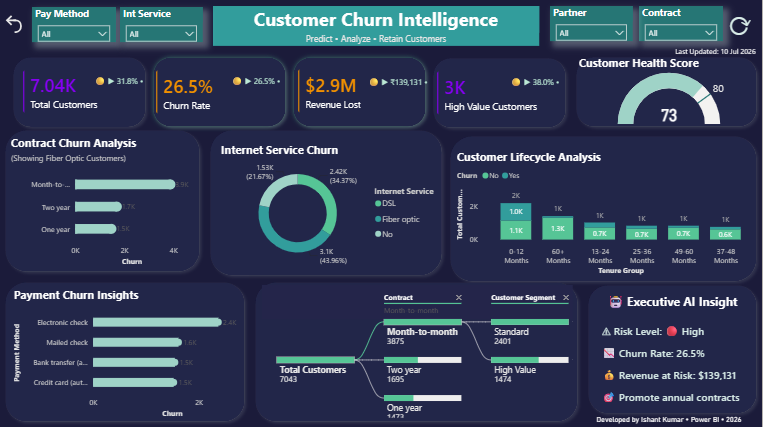

The dashboard page shown, as its layout file describes it:
{"tool":"powerbi","page":{"name":"Page 1","canvas":[1280,720],"ordinal":0},"visuals":[{"type":"shape","box":[248.6,89,240.2,134.4],"z":0},{"type":"shape","box":[483.8,89,240.2,134.4],"z":1000},{"type":"shape","box":[13.1,88.6,240,135],"z":2000},{"type":"shape","box":[0,211.7,344.4,255.3],"z":3000},{"type":"shape","box":[719,90.7,240.2,134.4],"z":4000},{"type":"cardVisual","fields":{"Data":["all measures.Total Customers"]},"box":[22,102.8,216.1,106.4],"z":5000},{"type":"cardVisual","fields":{"Data":["all measures.Churn Rate"]},"box":[245.2,102.5,220.1,107.5],"z":6000},{"type":"cardVisual","fields":{"Data":["all measures.Revenue Lost"]},"box":[483.8,100.8,233.5,107.5],"z":7000},{"type":"cardVisual","fields":{"Data":["all measures.High Value Customers"]},"box":[717.3,104.1,226.8,107.5],"z":8000},{"type":"shape","box":[367.9,102.5,124.3,70.6],"z":9000},{"type":"shape","box":[618.2,104.1,100.8,70.6],"z":10000},{"type":"shape","box":[137.7,102.5,124.3,70.6],"z":11000},{"type":"shape","box":[836.5,104.1,124.3,70.6],"z":12000},{"type":"clusteredBarChart","title":"Contract Churn Analysis","fields":{"Category":["Telco-Customer-Churn.Contract"],"Y":["CountNonNull(Telco-Customer-Churn.Churn)"]},"box":[13.4,228.5,315.8,225.1],"z":13000},{"type":"shape","box":[344.5,211.1,407,261.7],"z":14000},{"type":"donutChart","title":"Internet Service Churn","fields":{"Y":["CountNonNull(Telco-Customer-Churn.Churn)"],"Series":["Telco-Customer-Churn.Internet Service"]},"box":[366.4,239.8,381.6,214.5],"z":15000},{"type":"shape","box":[0,467,419.9,252],"z":16000},{"type":"clusteredBarChart","title":"Payment Churn Insights","fields":{"Y":["CountNonNull(Telco-Customer-Churn.Churn)"],"Category":["Telco-Customer-Churn.Payment Method"]},"box":[18.5,483.8,416.6,225.1],"z":17000},{"type":"shape","box":[748.1,221.2,531.9,261.7],"z":18000},{"type":"columnChart","title":"Customer Lifecycle Analysis","fields":{"Category":["Telco-Customer-Churn.Tenure Group"],"Y":["all measures.Total Customers"],"Series":["Telco-Customer-Churn.Churn"]},"box":[763.3,251.6,516.7,216.1],"z":19000},{"type":"shape","box":[419.9,467,559.4,252],"z":20000},{"type":"decompositionTreeVisual","fields":{"ExplainBy":["Telco-Customer-Churn.Contract","Telco-Customer-Churn.Customer Segment","Telco-Customer-Churn.Internet Service","Telco-Customer-Churn.Payment Method","Telco-Customer-Churn.Senior Citizen","Telco-Customer-Churn.Tenure Group","Telco-Customer-Churn.Partner","Telco-Customer-Churn.Dependents"],"Analyze":["all measures.Total Customers"]},"box":[435.1,475.4,532.5,233.5],"z":21000},{"type":"textbox","box":[967.6,692.3,312.4,27],"z":22000},{"type":"shape","title":"Customer Churn Intelligence","box":[357.8,11.8,547.6,77.3],"z":23000},{"type":"slicer","title":"Pay Method","fields":{"Values":["Telco-Customer-Churn.Payment Method"]},"box":[53.8,13.4,141.1,58.8],"z":24000},{"type":"slicer","title":"Contract","fields":{"Values":["Telco-Customer-Churn.Contract"]},"box":[1073.4,11.8,141.1,58.8],"z":25000},{"type":"slicer","title":"Int Service","fields":{"Values":["Telco-Customer-Churn.Internet Service"]},"box":[201.6,13.4,139.4,58.8],"z":26000},{"type":"slicer","title":"Partner","fields":{"Values":["Telco-Customer-Churn.Partner"]},"box":[923.9,11.8,139.4,58.8],"z":27000},{"type":"actionButton","box":[1205.7,11.8,74.3,64.2],"z":28000},{"type":"shape","box":[1123.8,73.9,156.2,28.6],"z":29000},{"type":"shape","box":[979.4,472.8,300.6,233],"z":30000},{"type":"cardVisual","fields":{"Data":["all measures.AI Risk Level","all measures.AI Churn Rate","all measures.AI Revenue","all measures.AI Recommendation"]},"box":[979.4,493.1,300.6,212.8],"z":31000},{"type":"shape","box":[959.2,89,320.8,134.4],"z":32000},{"type":"gauge","fields":{"Y":["all measures.Customer Health Score"]},"box":[967.6,94.1,312.4,120.9],"z":33000},{"type":"actionButton","box":[3.4,21.8,100.8,40.3],"z":33001}]}

Visuals, with their boxes in screenshot pixels (x1, y1, x2, y2), scaled from the page's 1280x720 canvas onto the 763x428 screenshot:
shape: 148:53:291:133
shape: 288:53:432:133
shape: 8:53:151:133
shape: 0:126:205:278
shape: 429:54:572:134
cardVisual - all measures.Total Customers: 13:61:142:124
cardVisual - all measures.Churn Rate: 146:61:277:125
cardVisual - all measures.Revenue Lost: 288:60:428:124
cardVisual - all measures.High Value Customers: 428:62:563:126
shape: 219:61:293:103
shape: 369:62:429:104
shape: 82:61:156:103
shape: 499:62:573:104
"Contract Churn Analysis" clusteredBarChart: 8:136:196:270
shape: 205:125:448:281
"Internet Service Churn" donutChart: 218:143:446:270
shape: 0:278:250:427
"Payment Churn Insights" clusteredBarChart: 11:288:259:421
shape: 446:131:762:287
"Customer Lifecycle Analysis" columnChart: 455:150:762:278
shape: 250:278:584:427
decompositionTreeVisual - Telco-Customer-Churn.Contract x Telco-Customer-Churn.Customer Segment: 259:283:577:421
textbox: 577:412:762:427
"Customer Churn Intelligence" shape: 213:7:540:53
"Pay Method" slicer: 32:8:116:43
"Contract" slicer: 640:7:724:42
"Int Service" slicer: 120:8:203:43
"Partner" slicer: 551:7:634:42
actionButton: 719:7:762:45
shape: 670:44:762:61
shape: 584:281:762:420
cardVisual - all measures.AI Risk Level x all measures.AI Churn Rate: 584:293:762:420
shape: 572:53:762:133
gauge - all measures.Customer Health Score: 577:56:762:128
actionButton: 2:13:62:37
